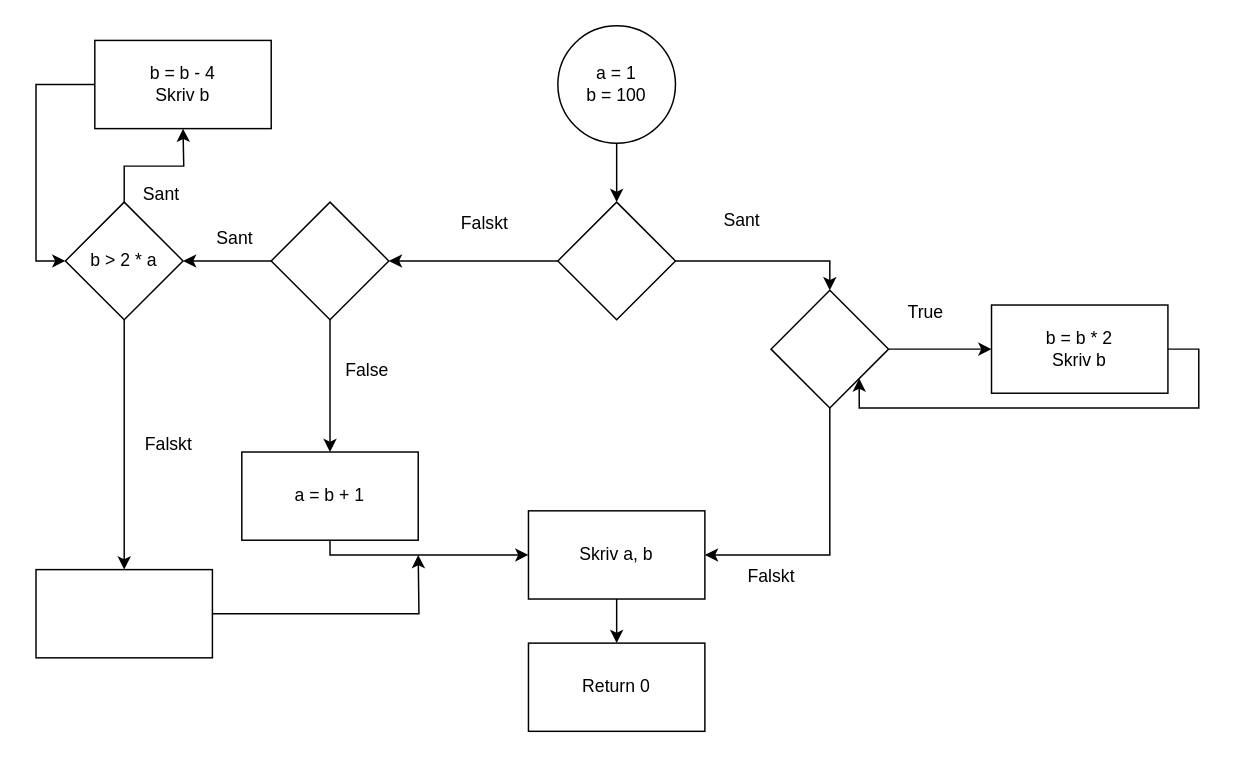
Some shapes in this 1236 by 757 pixel diagram are drawn without their labels. The centre of each missing label's shape, as x and y in pixels:
"a > b" goes at pixel 615 260.
"a/b > 20" goes at pixel 829 348.
"b > a" goes at pixel 329 260.
"Skriv b" goes at pixel 123 613.
